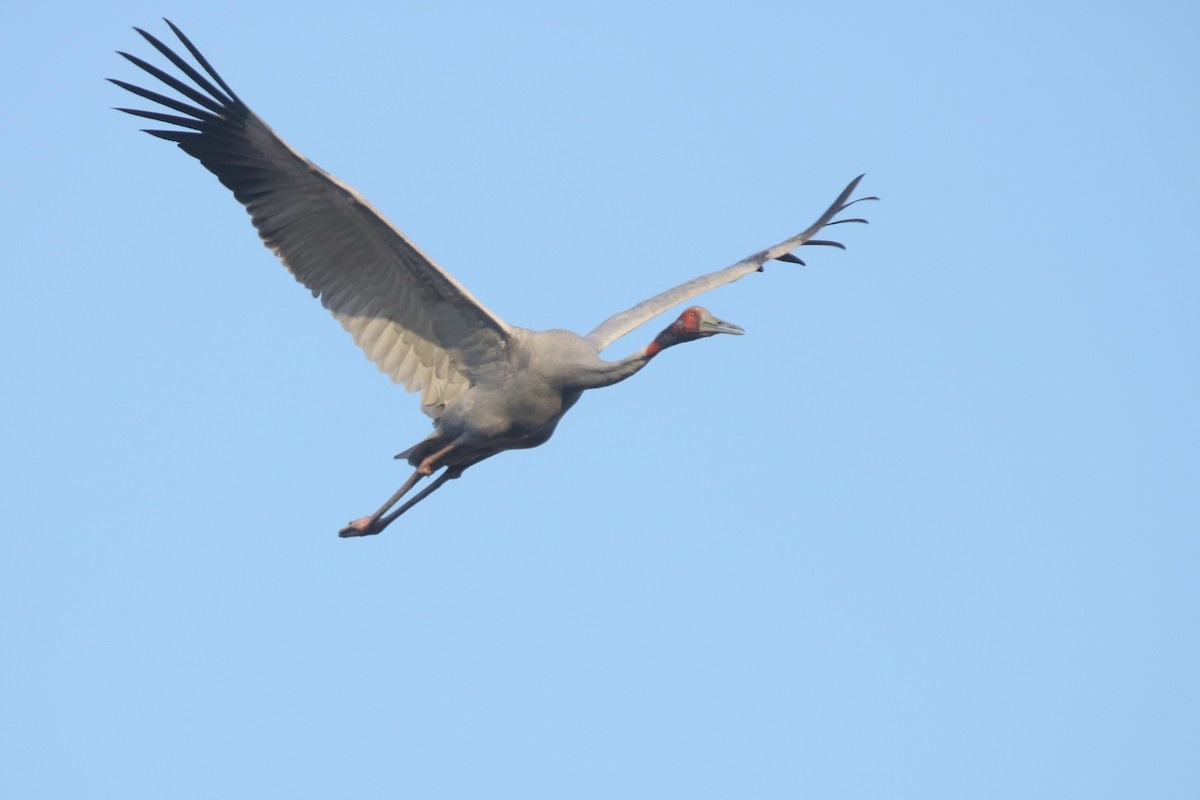crane: (101, 3, 884, 558)
